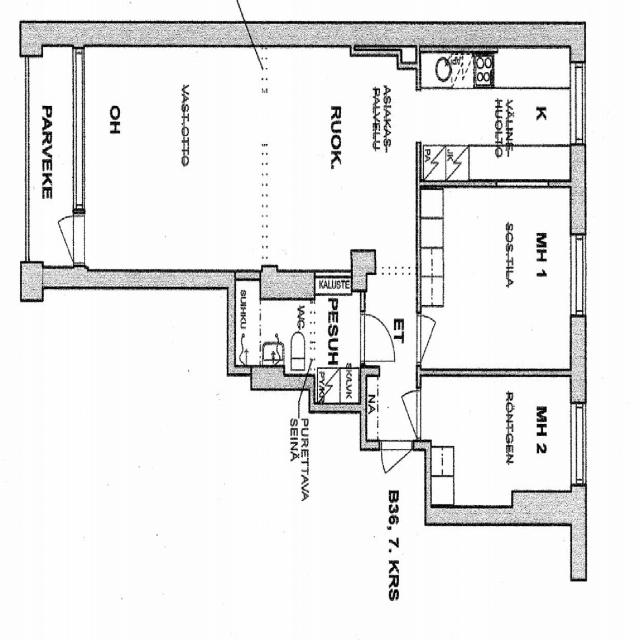door: (44, 216, 84, 262), (360, 314, 395, 362), (381, 441, 411, 496), (415, 316, 450, 362), (386, 391, 420, 437)
